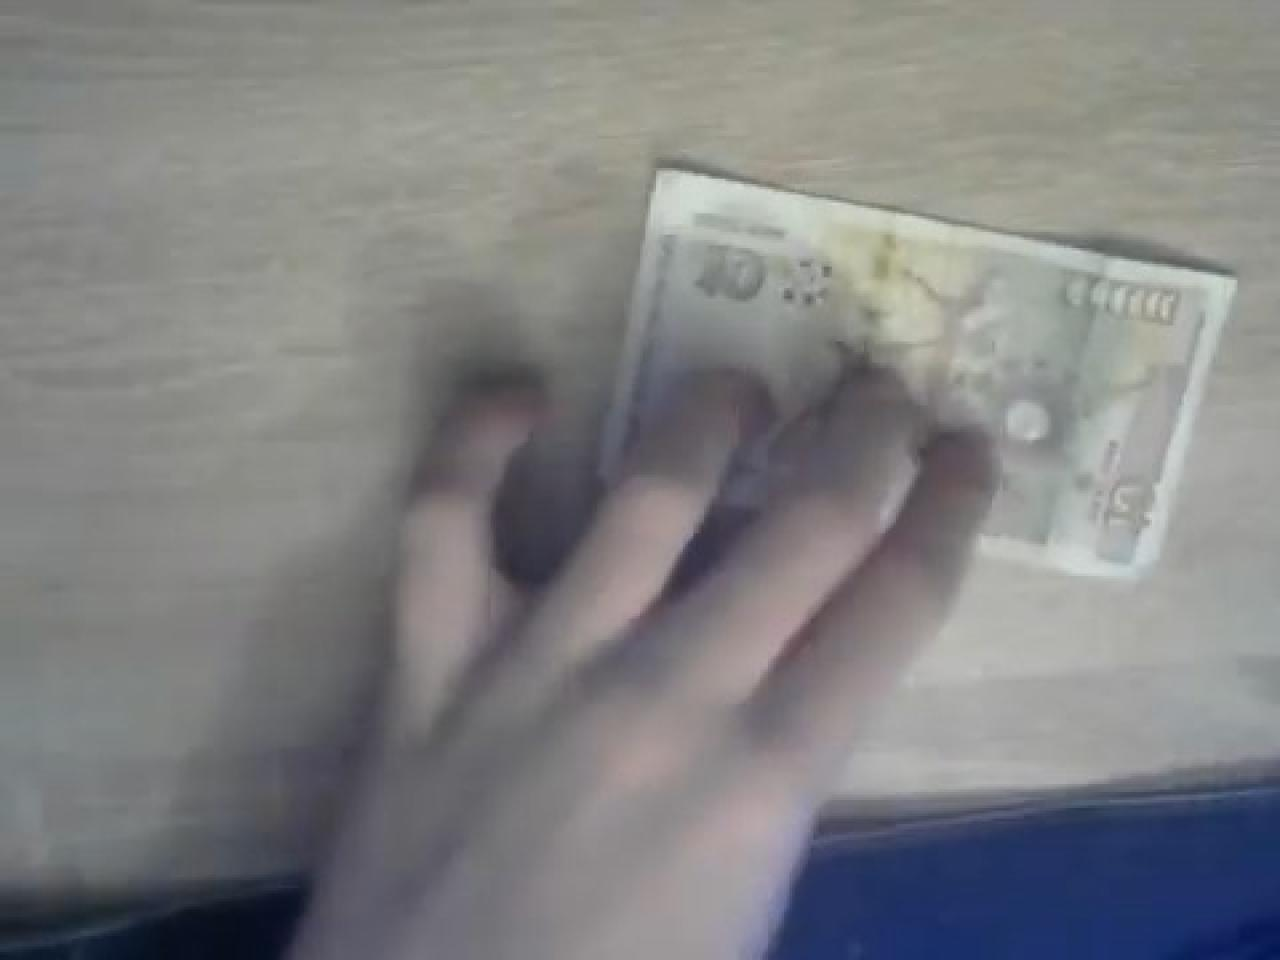10leva: (595, 162, 1243, 579)
